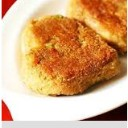cutlet: (23, 17, 117, 90)
